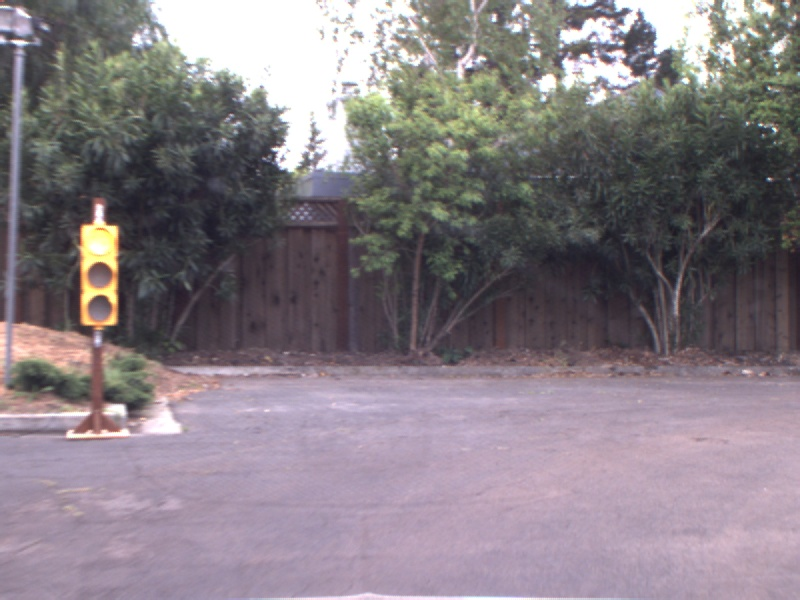red: (78, 220, 120, 330)
